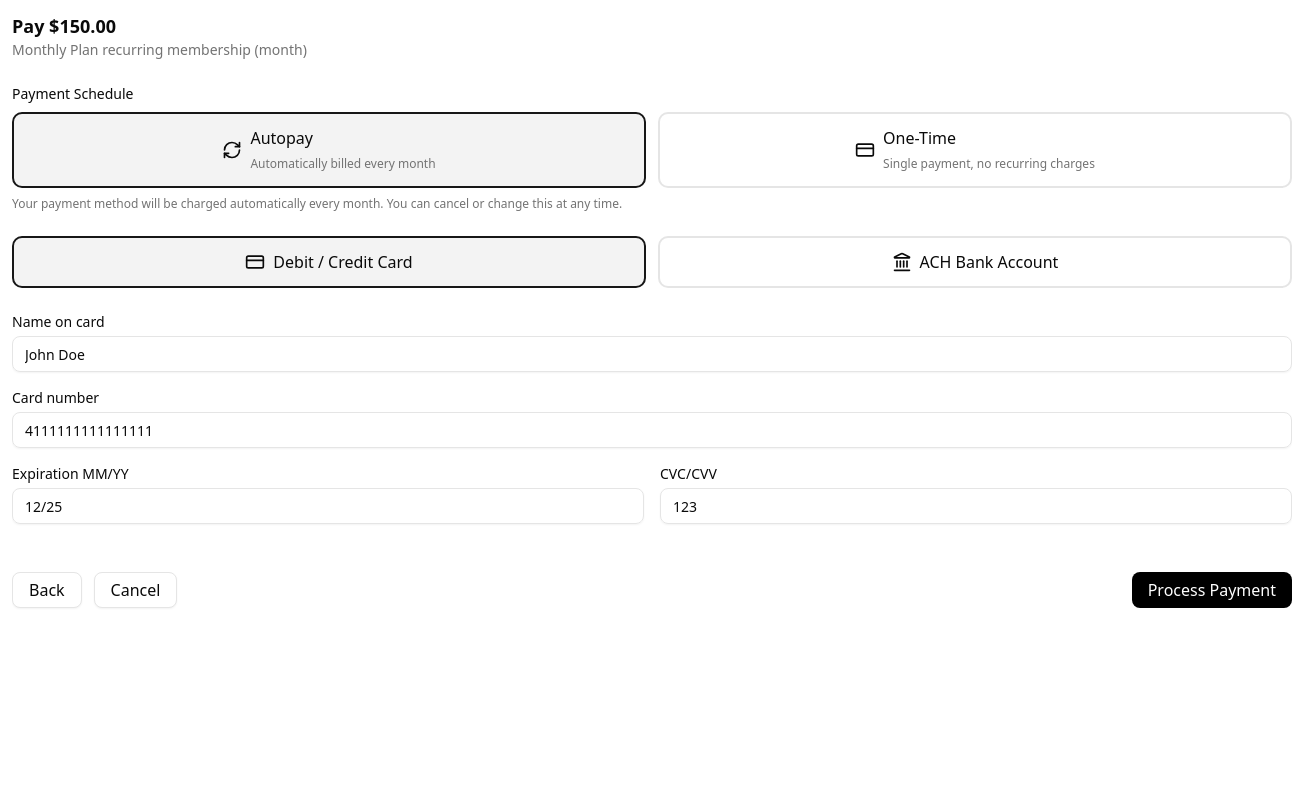
Test: MemberPaymentStep › Billing type functionality › disables billing type buttons while processing payment
Click the button "Process Payment" at (1212, 590), box [1132,572,1292,608]
Wait 2100 ms
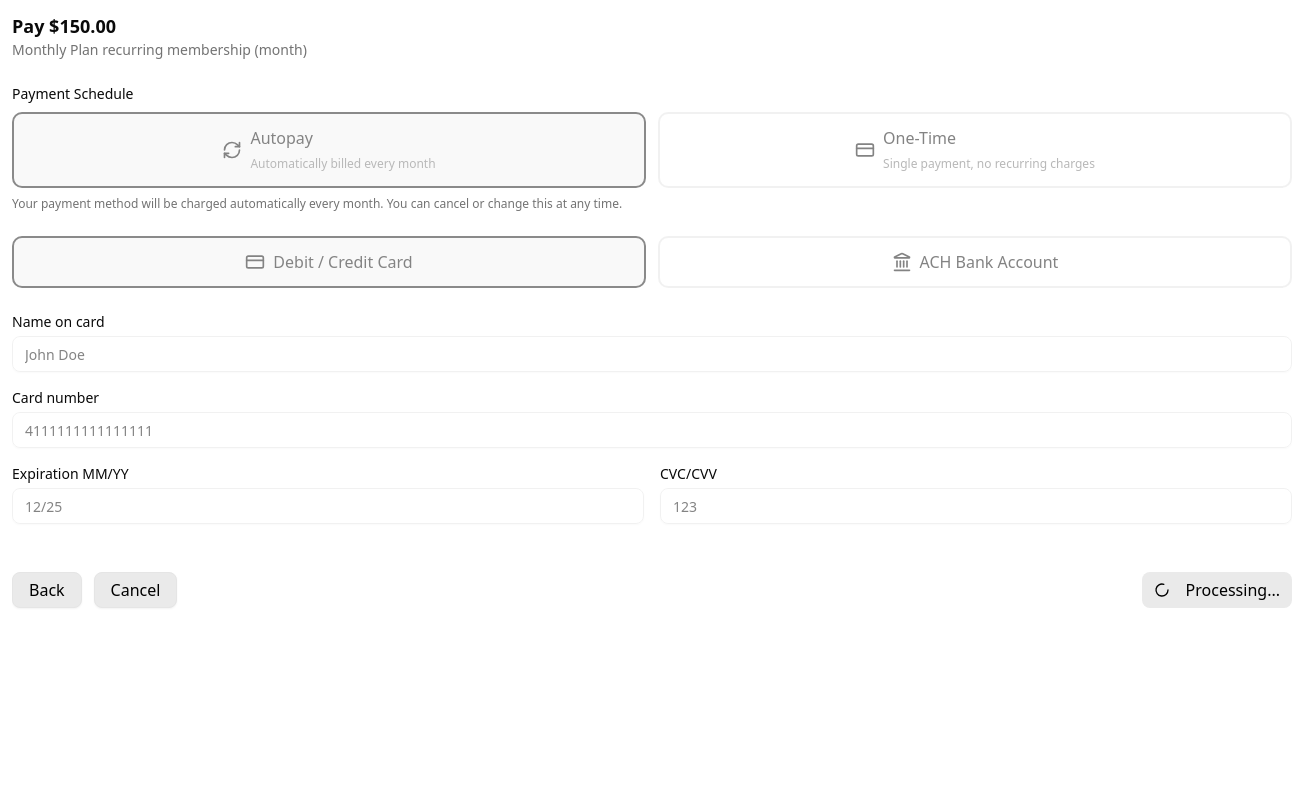
Expected: the button "One-Time Single payment, no recurring charges" is disabled, [658,112,1292,188]
